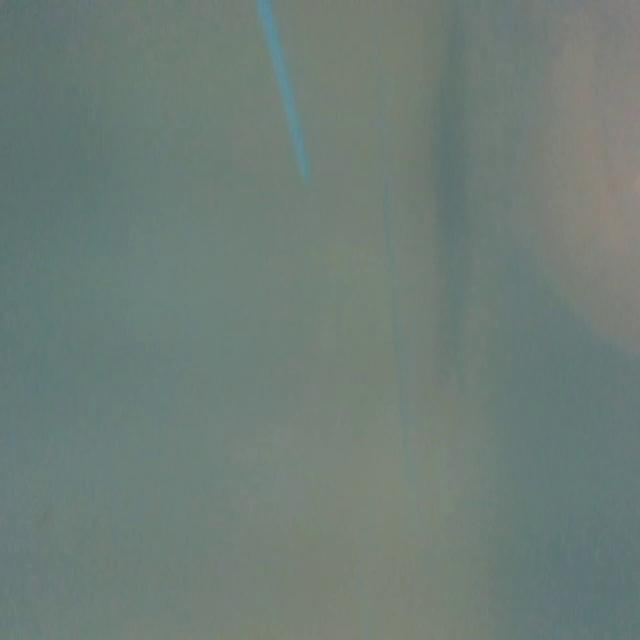plastic bags: (530, 13, 640, 349)
